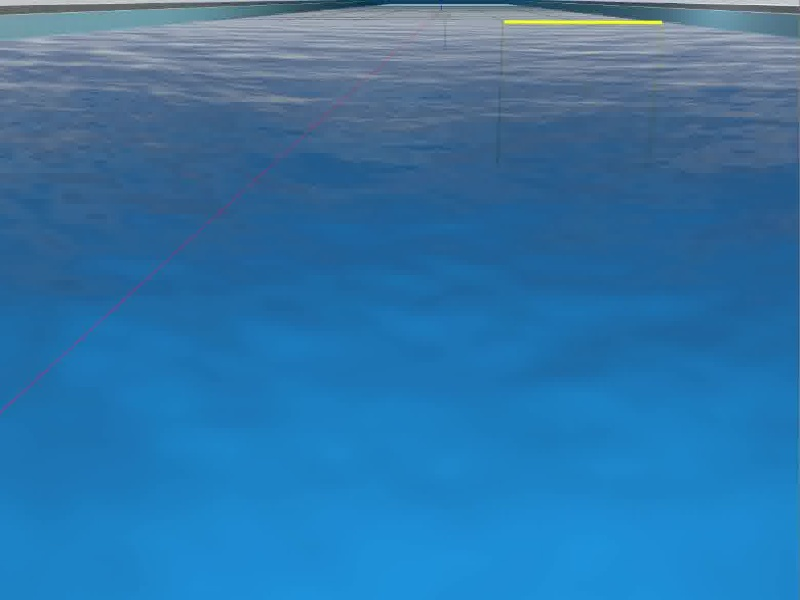gate: (496, 19, 667, 170)
